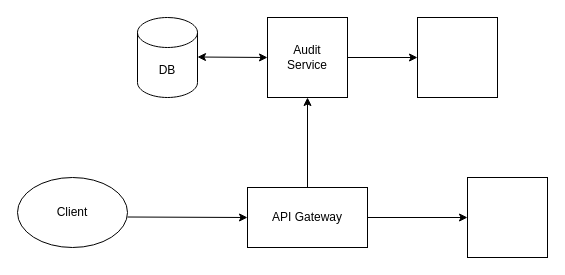
Image size: 565x275. Some labels were removed from this diagram. Each missing label, with the centre of its shape:
PT: (507,217)
Signing Service: (457,57)
